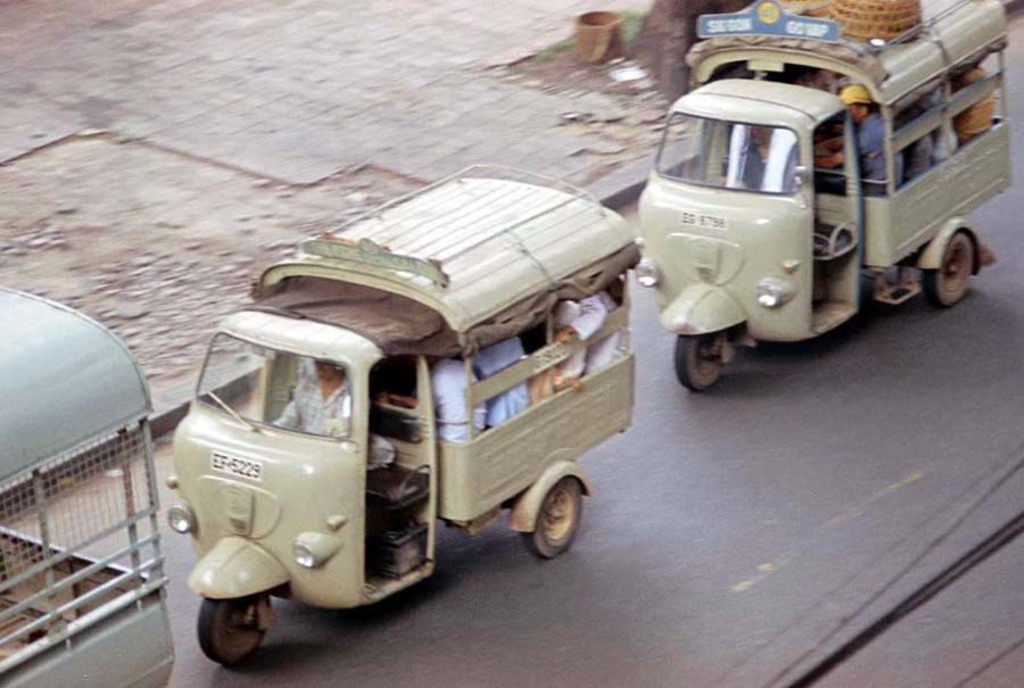person: (812, 82, 893, 187)
